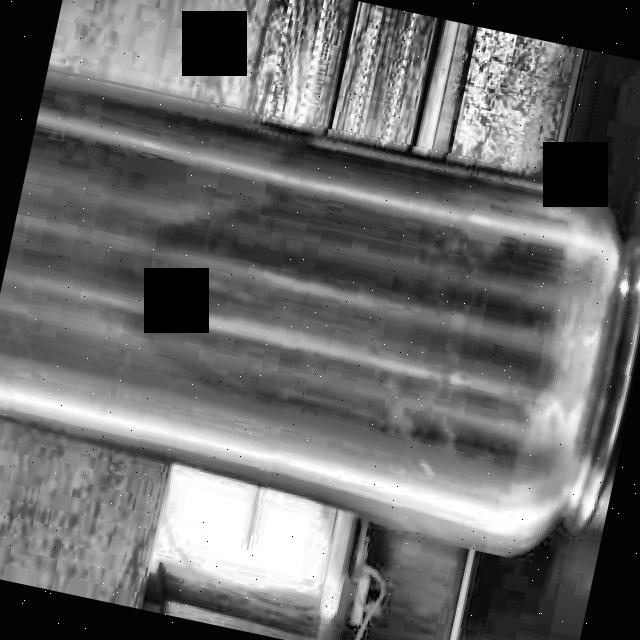bottle: (0, 68, 640, 555)
